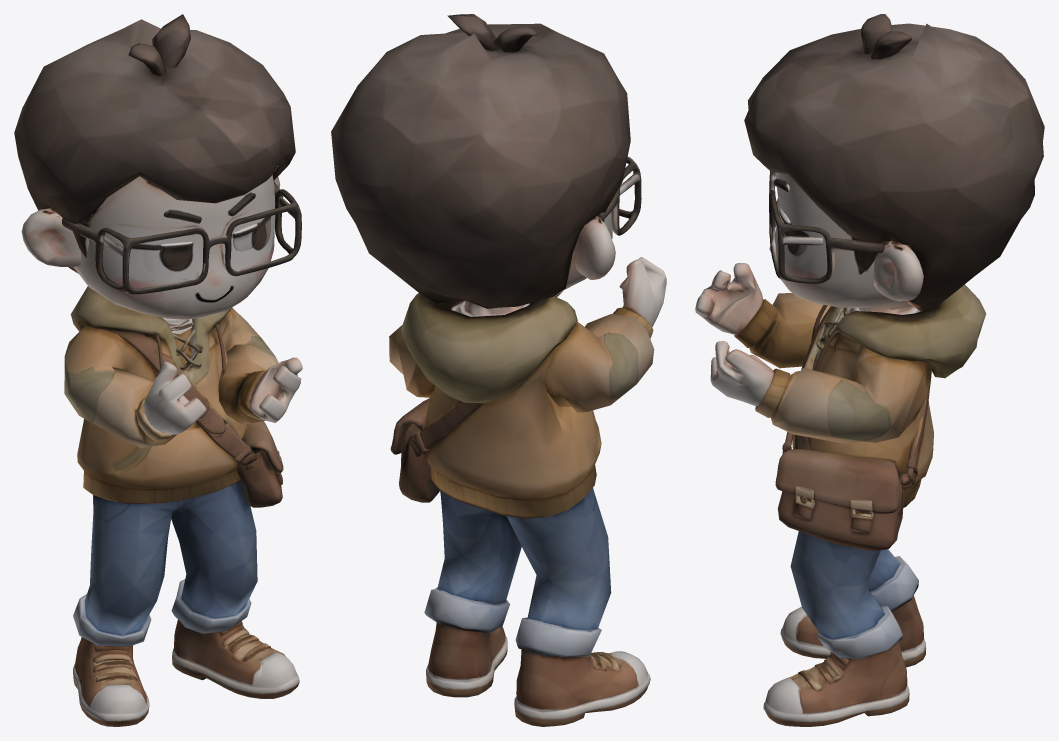
Rendered from carrying_pose.glb.
3 views of the same model, side by side, from view 1: azimuth 30°, elevation 25°; view 2: azimuth 150°, elevation 25°; view 3: azimuth 270°, elevation 25° (orthographic). The views are drawn at different scales.
Visible parts, largest first — view 1: LUncle_Carrying_Pose; view 2: LUncle_Carrying_Pose; view 3: LUncle_Carrying_Pose.
Boxes of the visible parts, left/top/right/bottom form: LUncle_Carrying_Pose: left=14, top=14, right=302, bottom=726; LUncle_Carrying_Pose: left=331, top=14, right=666, bottom=726; LUncle_Carrying_Pose: left=695, top=14, right=1044, bottom=726.
Bounding box in the file's own units: 0.412 × 1 × 0.4775.
1 material, 1 textured.
